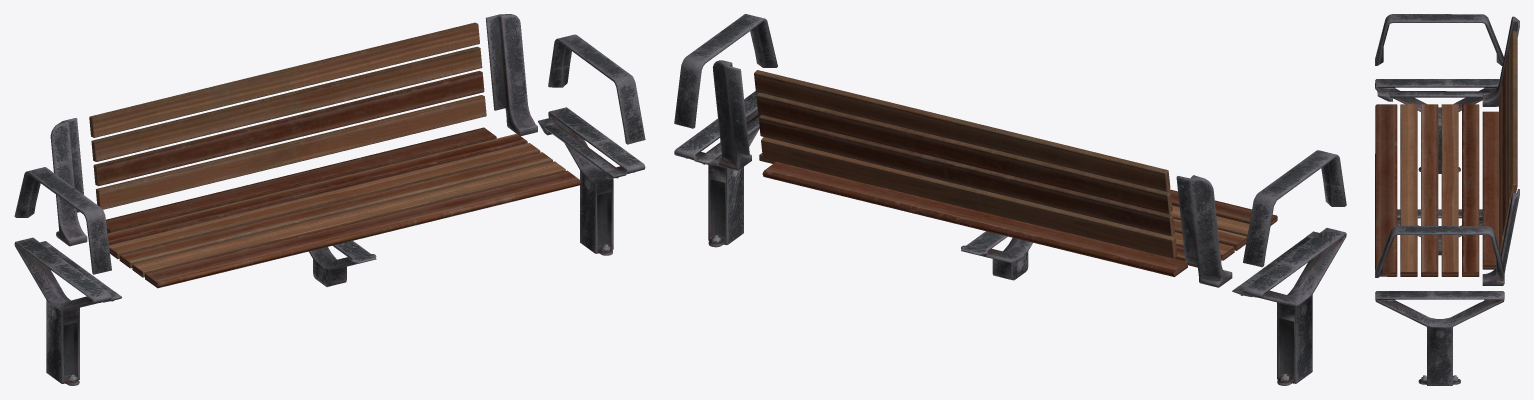
The model's file is bench.glb.
3 views of the same model, side by side, from view 1: azimuth 30°, elevation 25°; view 2: azimuth 150°, elevation 25°; view 3: azimuth 270°, elevation 25° (orthographic). The views are drawn at different scales.
Visible parts, largest first — view 1: seat, legs_single, back_support_r; view 2: seat, back_support_r, legs_single; view 3: seat, legs_single, back_support_r.
Part boxes in pixels (box(x1,y1,x2,y2)): seat: box(89, 22, 580, 288); legs_single: box(14, 107, 645, 385); back_support_r: box(14, 14, 645, 274); seat: box(754, 70, 1277, 276); back_support_r: box(674, 14, 1346, 287); legs_single: box(674, 91, 1346, 385); seat: box(1375, 31, 1517, 276); legs_single: box(1375, 79, 1504, 385); back_support_r: box(1375, 14, 1519, 285).
Size of the model in its own units: 2.4 by 0.8669 by 0.6705.
3 materials, 3 textured.
